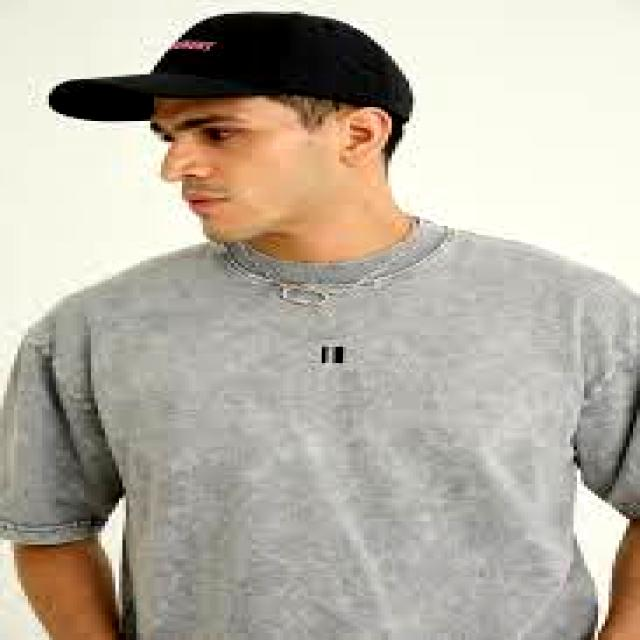face: (151, 96, 346, 242)
hat: (49, 12, 412, 121)
top-wear: (0, 219, 639, 639)
